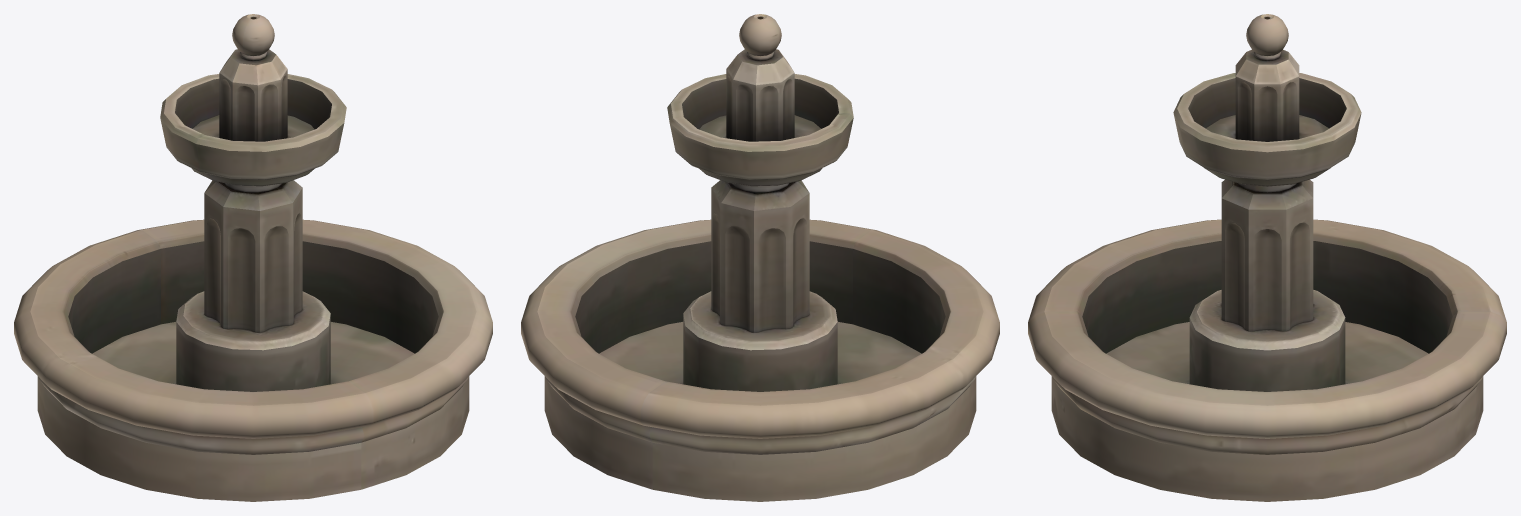
3 renders of one model, left to right at view 1: azimuth 30°, elevation 25°; view 2: azimuth 150°, elevation 25°; view 3: azimuth 270°, elevation 25°, orthographic.
Visible parts, largest first — view 1: body0_model0_lod0_mesh0; view 2: body0_model0_lod0_mesh0; view 3: body0_model0_lod0_mesh0.
Part boxes in pixels (x1,y1,x2,y2): body0_model0_lod0_mesh0: (14,14,492,501); body0_model0_lod0_mesh0: (521,14,999,501); body0_model0_lod0_mesh0: (1028,14,1506,501).
Bounding box in the file's own units: 128 × 116 × 128.
1 material, 1 textured.
